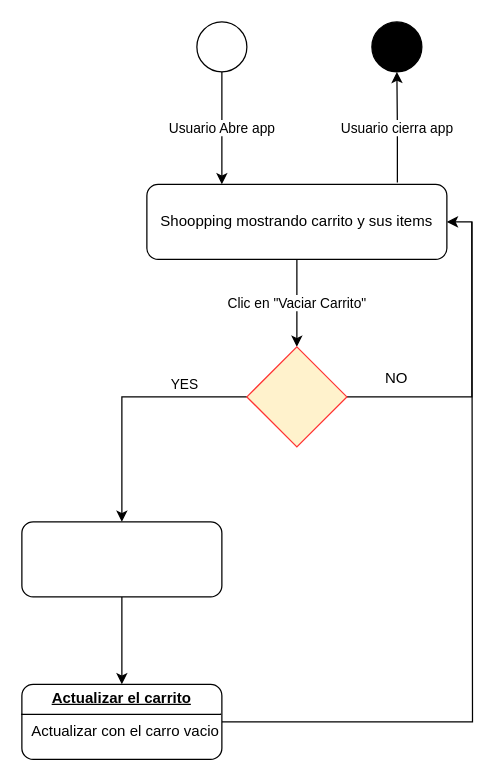
This 504x781 diagram has some shape labels left out. Each missing label, with the centre of its shape:
"items n > 0" belongs at point 296,396.
"Vaciar carrito Eliminar la lista de items" belongs at point 121,559.
